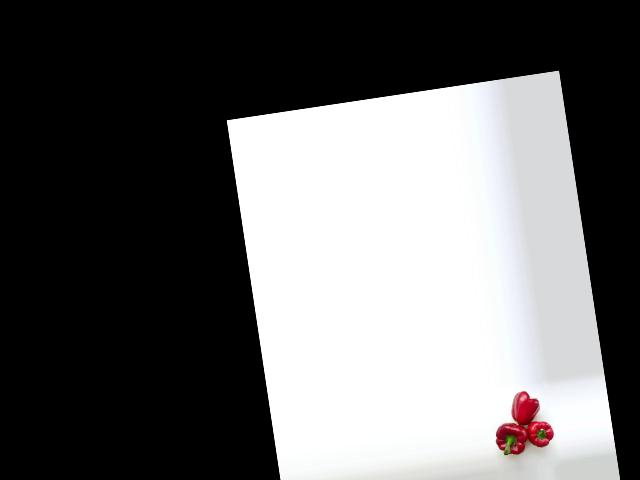bell_pepper: (505, 384, 548, 428)
